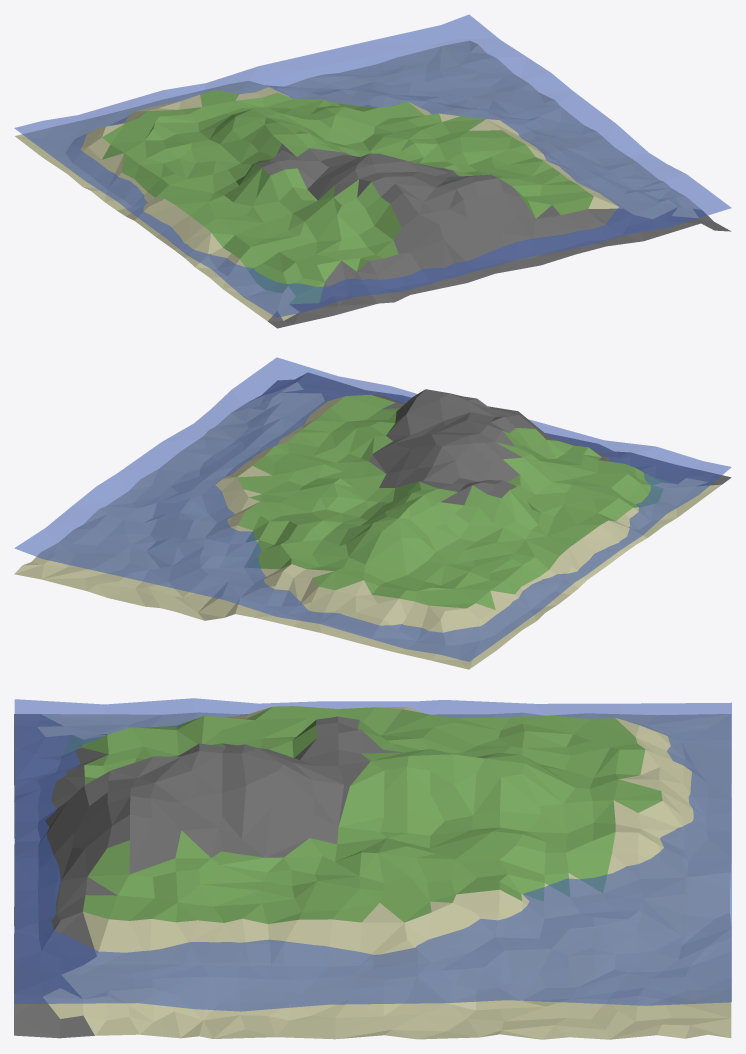
File: Terrain_1.fbx
3 renders of one model, top to bottom at view 1: azimuth 30°, elevation 25°; view 2: azimuth 150°, elevation 25°; view 3: azimuth 270°, elevation 25°, orthographic. The views are drawn at different scales.
Parts seen in each view (by area): view 1: Terrain_mesh; view 2: Terrain_mesh; view 3: Terrain_mesh.
Part boxes in pixels (bbox=[...]): Terrain_mesh: bbox=[14, 14, 731, 328]; Terrain_mesh: bbox=[14, 357, 731, 669]; Terrain_mesh: bbox=[14, 698, 731, 1039].
Bounding box in the file's own units: 40040 × 6428 × 40038.
